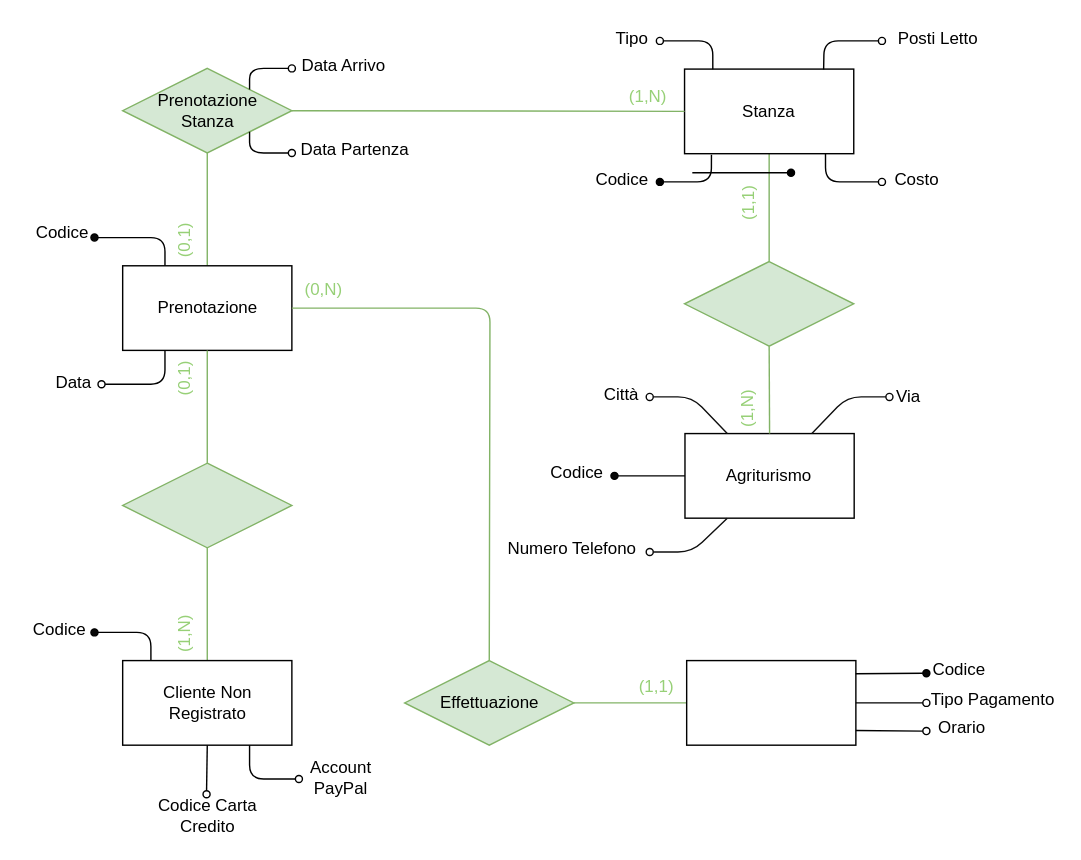
The diagram is 1081 pixels wide and 860 high, and some of its shapes have lost their labels. Each missing label, with the centre of its shape:
"Pagamento" belongs at (770,702).
"Prenotazione CNR" belongs at (206,505).
"Suddivisione" belongs at (768,303).
